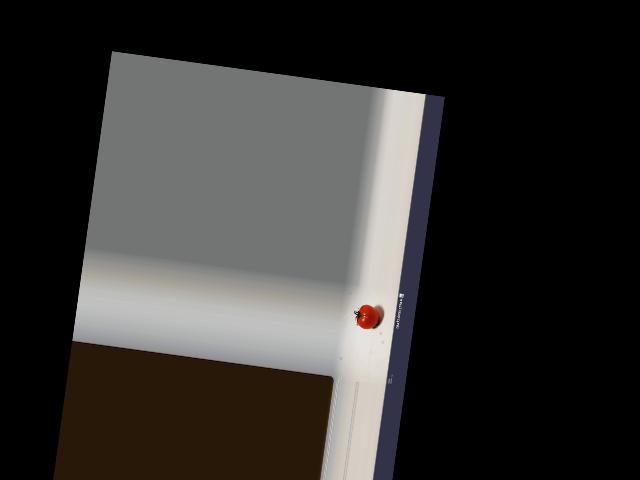tomato: (356, 304, 380, 331)
